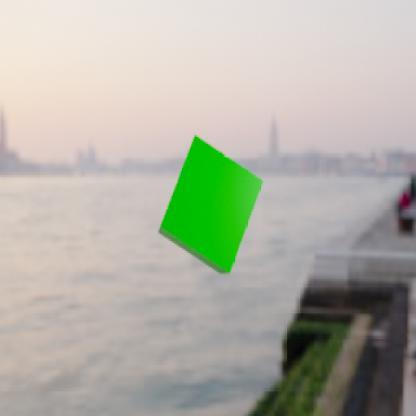green_cube: (157, 133, 263, 274)
